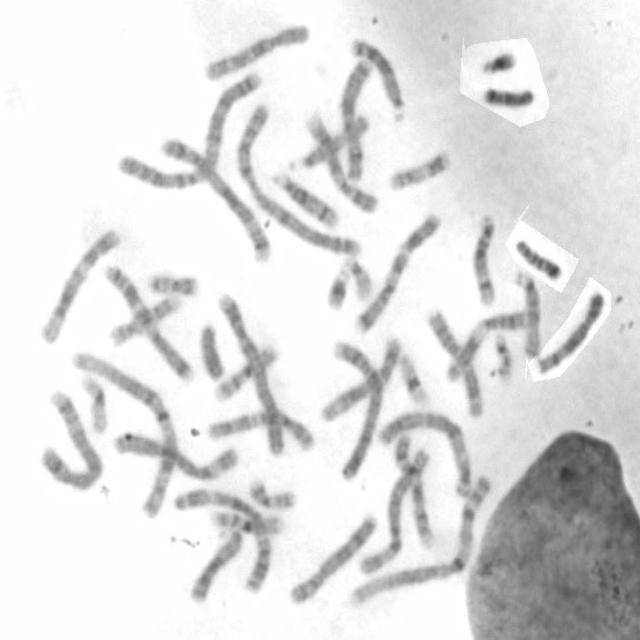A1: (346, 469, 494, 609), (69, 346, 180, 520)
A2: (230, 100, 366, 261), (108, 65, 264, 196)
A3: (168, 482, 276, 596), (374, 406, 474, 498)
B4: (212, 287, 288, 458), (328, 336, 383, 482)
B5: (156, 131, 272, 263), (34, 384, 105, 494)
C10: (198, 18, 312, 83), (202, 402, 316, 452)
C11: (422, 304, 486, 420), (443, 305, 528, 383)
C12: (34, 224, 123, 346), (316, 334, 404, 424)
C6: (353, 441, 432, 580), (111, 428, 242, 483)
C7: (98, 257, 195, 385), (351, 208, 444, 336)
C8: (284, 508, 378, 608), (533, 289, 606, 376)
C9: (300, 106, 382, 215), (392, 428, 438, 549)
D13: (347, 34, 408, 124), (183, 522, 244, 606)
D14: (266, 165, 341, 231), (468, 209, 499, 310)
D15: (284, 109, 372, 172), (509, 263, 542, 361)
E16: (210, 338, 280, 403), (204, 504, 286, 537)
E17: (106, 291, 183, 347), (383, 143, 452, 194)
E18: (511, 234, 563, 281), (478, 82, 536, 109)
F19: (76, 364, 109, 435), (396, 348, 432, 407)
F20: (245, 475, 298, 511), (144, 266, 200, 298)
G21: (322, 258, 350, 312), (476, 44, 521, 76)
G22: (342, 252, 374, 304), (490, 330, 513, 383)
X: (336, 54, 374, 187)
Y: (195, 317, 228, 382)
